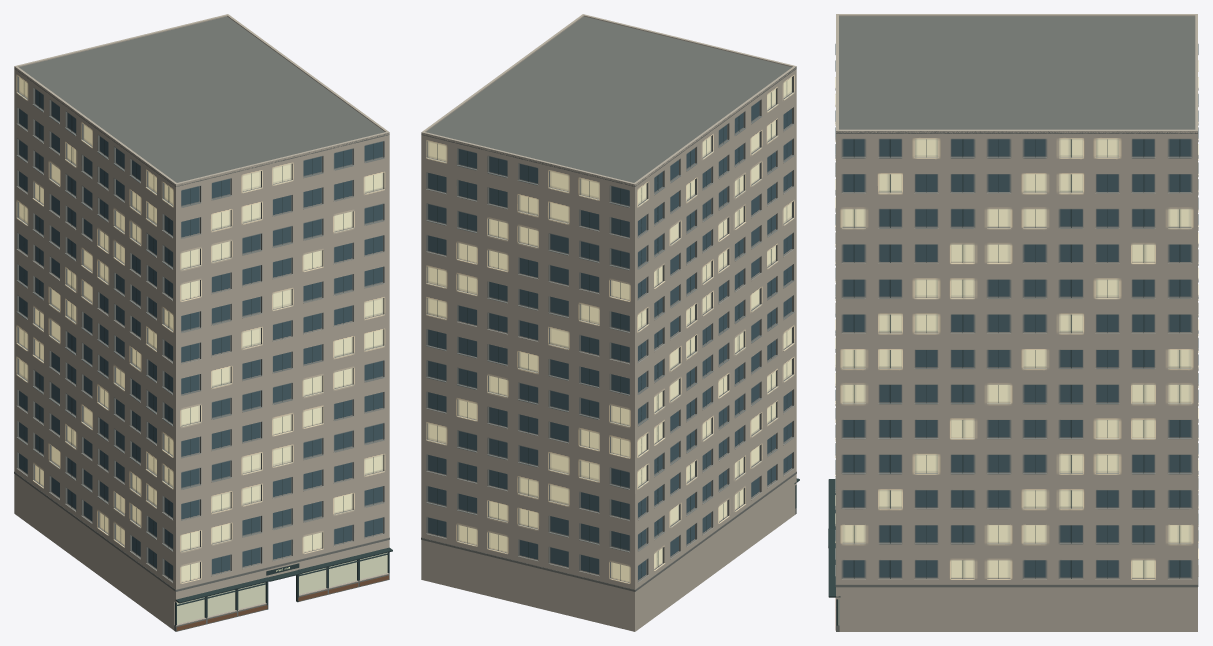
The model's file is cafe-pilot-runtime.glb.
The picture shows the model from 3 angles, left to right: view 1: azimuth 30°, elevation 25°; view 2: azimuth 150°, elevation 25°; view 3: azimuth 270°, elevation 25°; orthographic projection. The views are drawn at different scales.
Parts seen in each view (by area): view 1: cafe_runtime_lod0; view 2: cafe_runtime_lod0; view 3: cafe_runtime_lod0.
Part boxes in pixels (x1,y1,x2,y2): cafe_runtime_lod0: [14, 14, 392, 631]; cafe_runtime_lod0: [421, 14, 799, 631]; cafe_runtime_lod0: [828, 14, 1198, 631].
Size of what is drawn, in the model's own units: 23.57 by 46.89 by 31.42.
8 materials, 1 textured.
